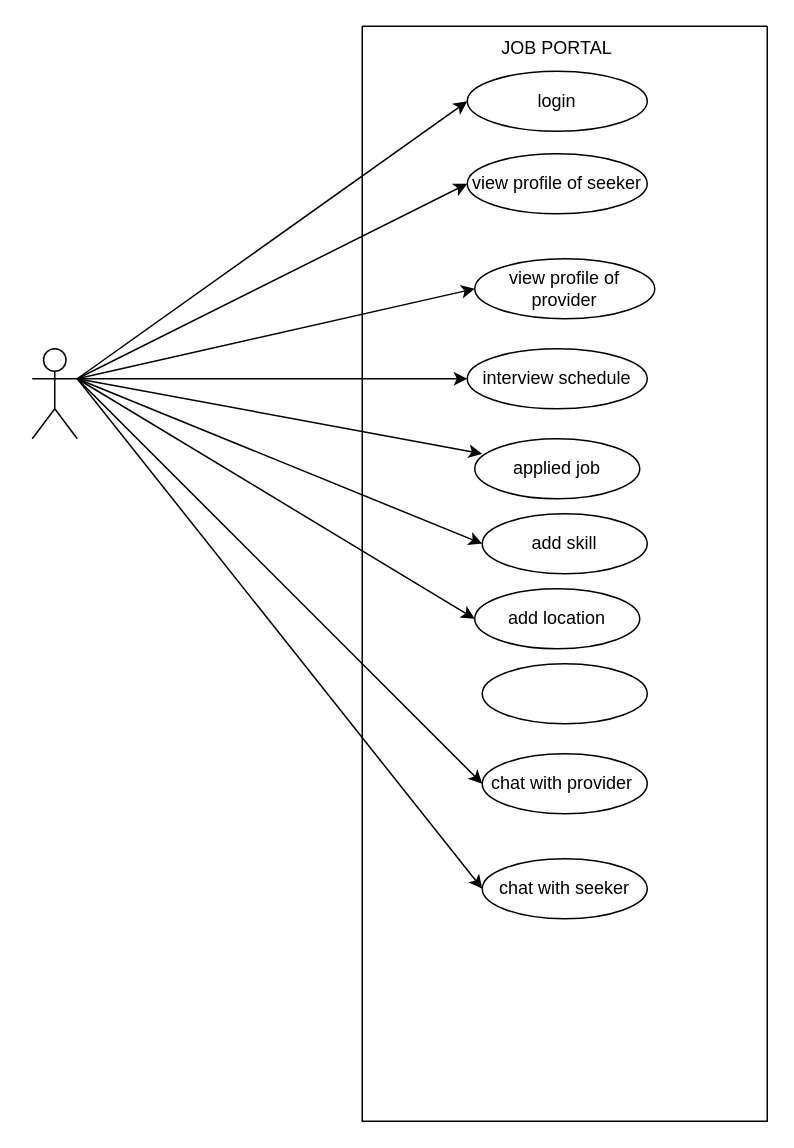
The diagram is 794 pixels wide and 1148 high, and some of its shapes have lost their labels. Each missing label, with the centre of its shape:
"add indusrty" goes at pixel 564 693.
"ADMIN" goes at pixel 54 393.
